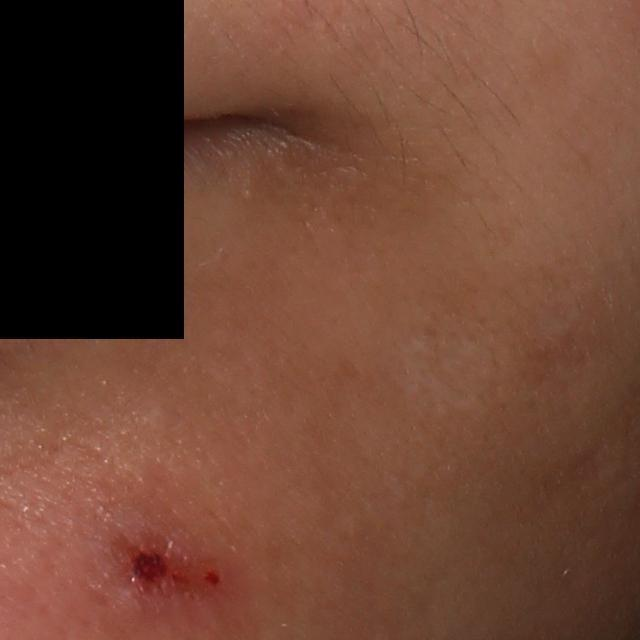papule: (104, 515, 217, 616)
